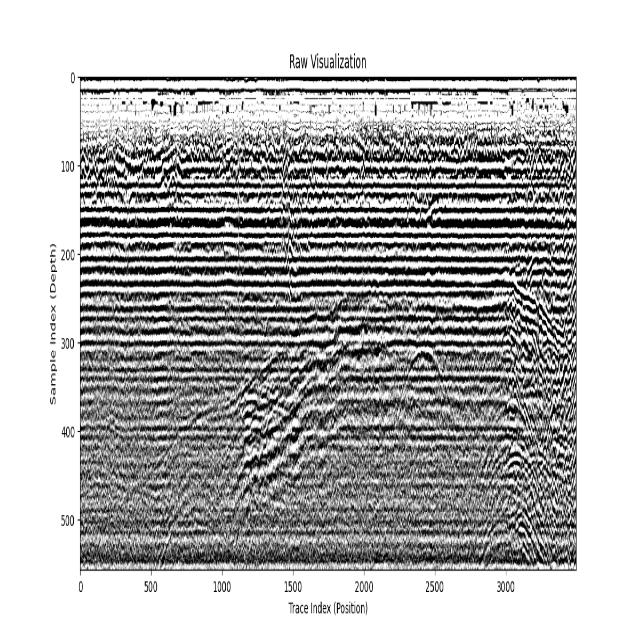anomaly: (157, 304, 400, 553), (485, 262, 568, 570), (388, 342, 456, 426)
